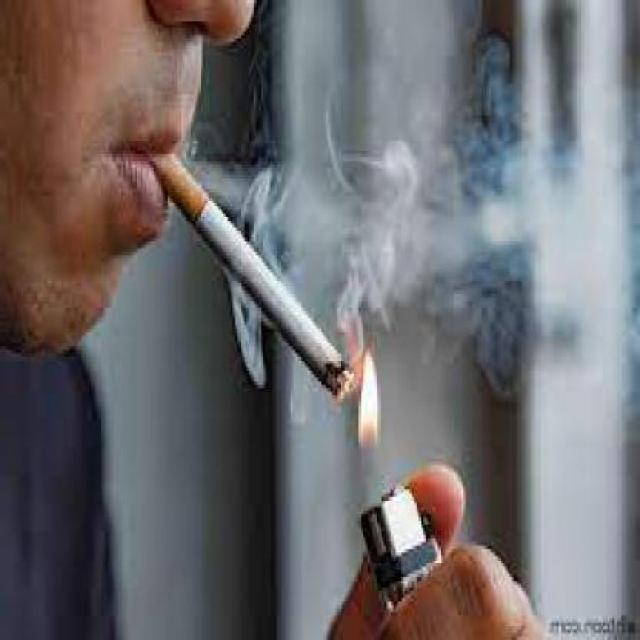smoke: (150, 151, 356, 406)
